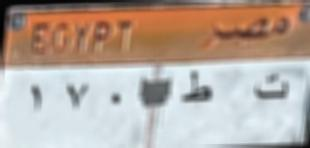0: (108, 90, 122, 108)
1: (26, 81, 46, 114)
7: (64, 80, 90, 111)
Taa: (182, 68, 212, 105)
taa: (255, 72, 293, 102)
